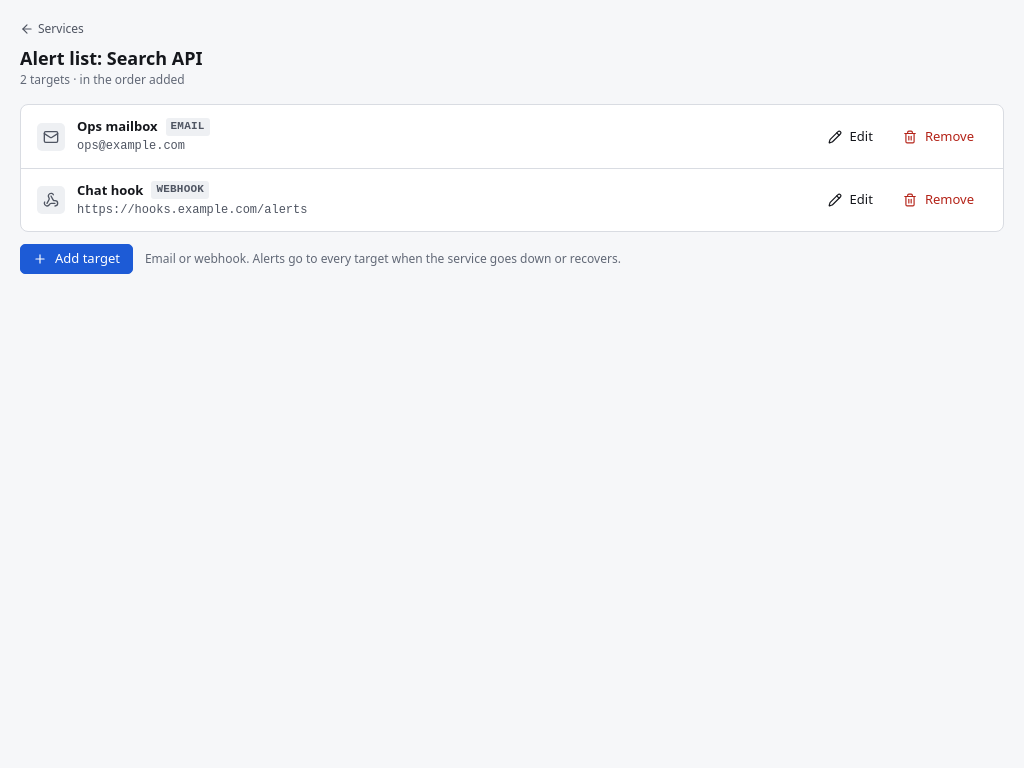
Scenario: opening the add dialog › opens Edit with the target’s values, type and headers, and the footer Save target
Check: the list named "Notification targets" is shown, box x1=20 y1=104 x2=1004 y2=232
Click the button "Edit" in the row of "Chat hook" at (850, 200), box x1=815 y1=185 x2=886 y2=215
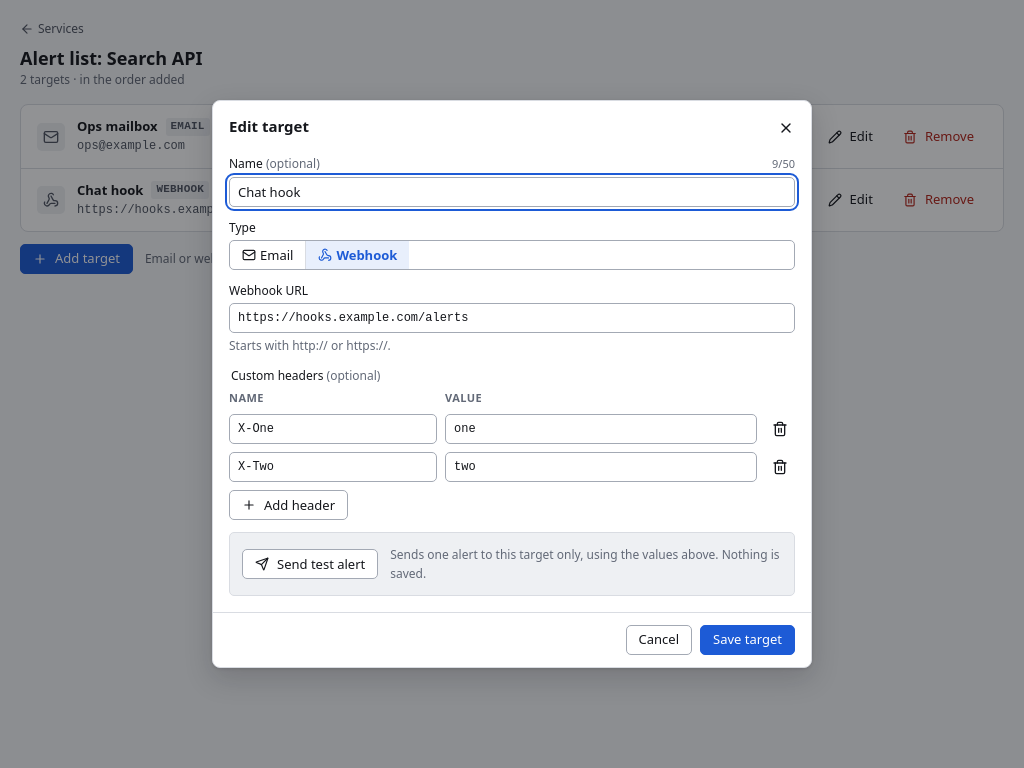
Check: the dialog "Edit target" is shown, box x1=212 y1=100 x2=812 y2=668
Check: the field labelled "Name (optional)" holds "Chat hook", box x1=229 y1=177 x2=795 y2=207
Check: the radio button named "Webhook" is checked, box x1=306 y1=241 x2=409 y2=269
